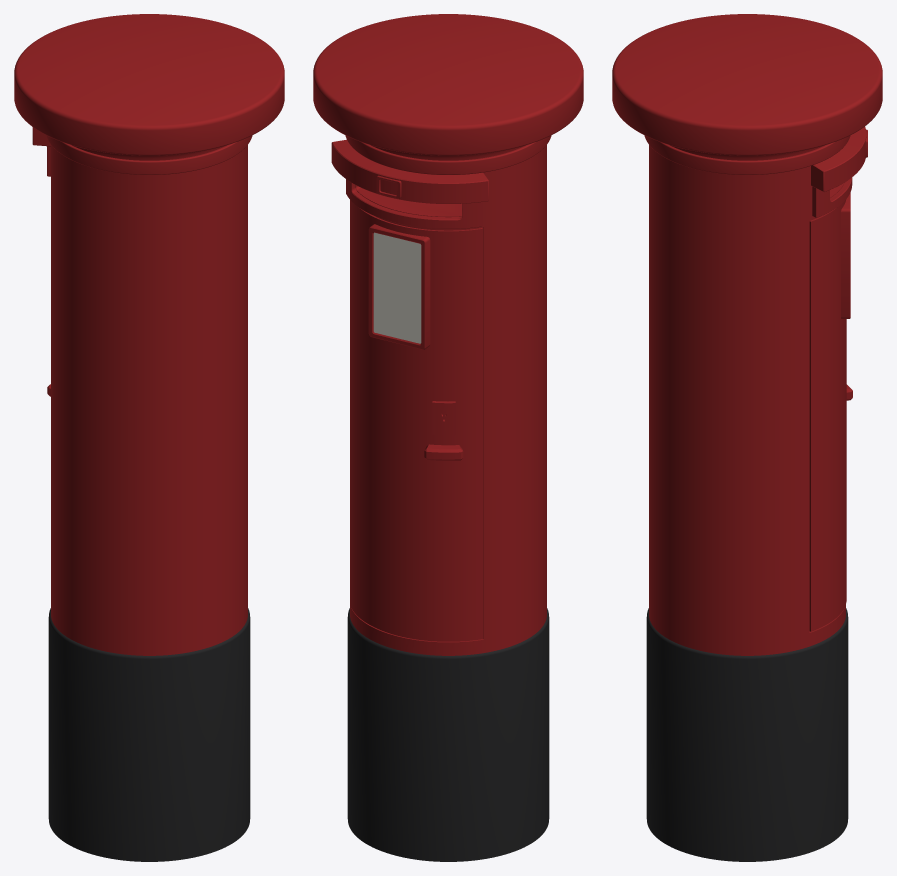
Rendered from pillar_box.glb.
3 renders of one model, left to right at view 1: azimuth 30°, elevation 25°; view 2: azimuth 150°, elevation 25°; view 3: azimuth 270°, elevation 25°, orthographic.
Visible parts, largest first — view 1: body, base; view 2: body, door, base, plate, hood, plate_frame, slot_frame, escutcheon, lock_grip; view 3: body, base, door, hood, plate_frame, slot_frame.
Part boxes in pixels (box(x1,y1,x2,y2)): body: box(14, 14, 284, 655); base: box(48, 608, 250, 861); body: box(313, 14, 583, 655); door: box(350, 200, 482, 641); base: box(347, 608, 549, 861); plate: box(373, 232, 421, 343); hood: box(331, 139, 488, 203); plate_frame: box(368, 224, 430, 349); slot_frame: box(346, 179, 482, 228); escutcheon: box(432, 401, 455, 435); lock_grip: box(424, 444, 463, 460); body: box(612, 14, 882, 655); base: box(646, 608, 848, 861); door: box(809, 199, 846, 631); hood: box(811, 127, 866, 191); plate_frame: box(841, 193, 850, 318); slot_frame: box(812, 177, 852, 217).
Size of the model in its own units: 0.535 by 1.65 by 0.535.
